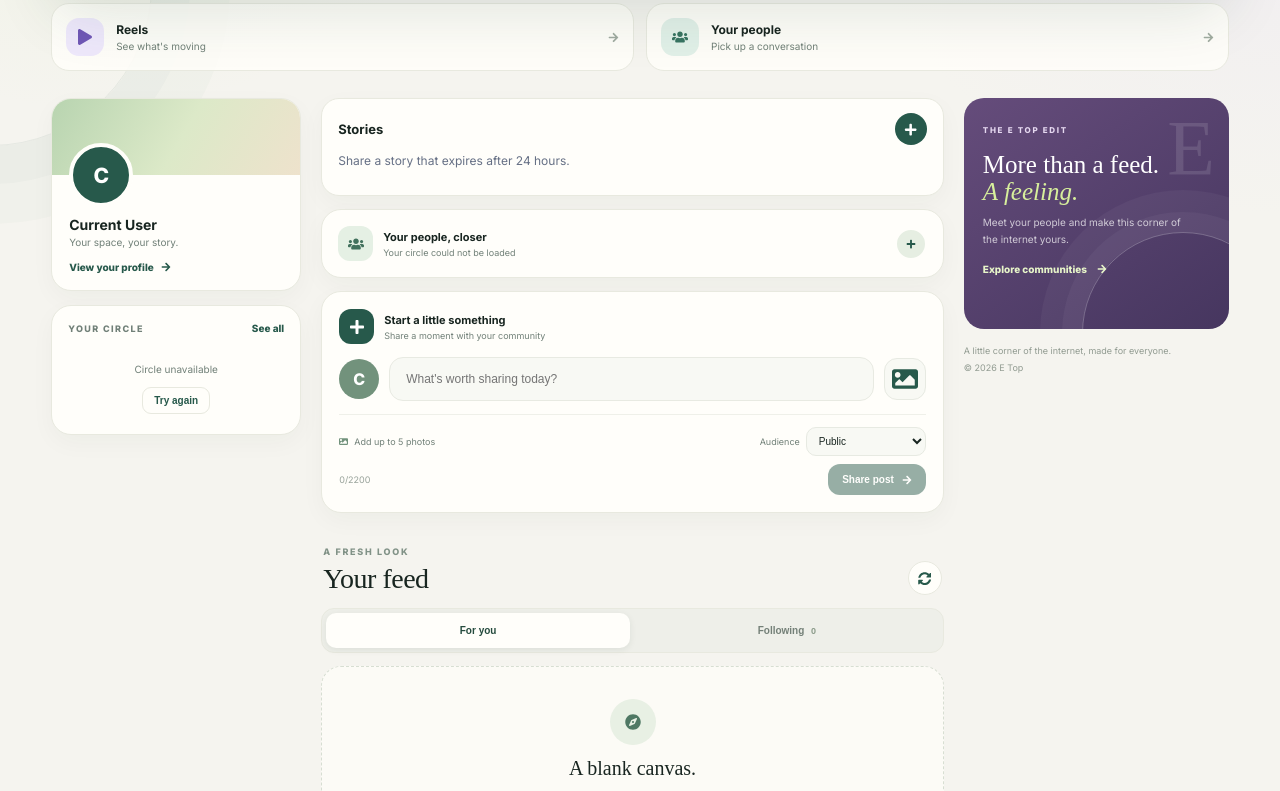
Scenario: shows a retry action when the following list cannot be loaded
The width and height of the screenshot is (1280, 791).
(page scrolled)
Expected: the message reads "Circle unavailable", [134,364,218,376]
Step 1. Click the button "Try again" → (176, 401), box [142,388,210,414]
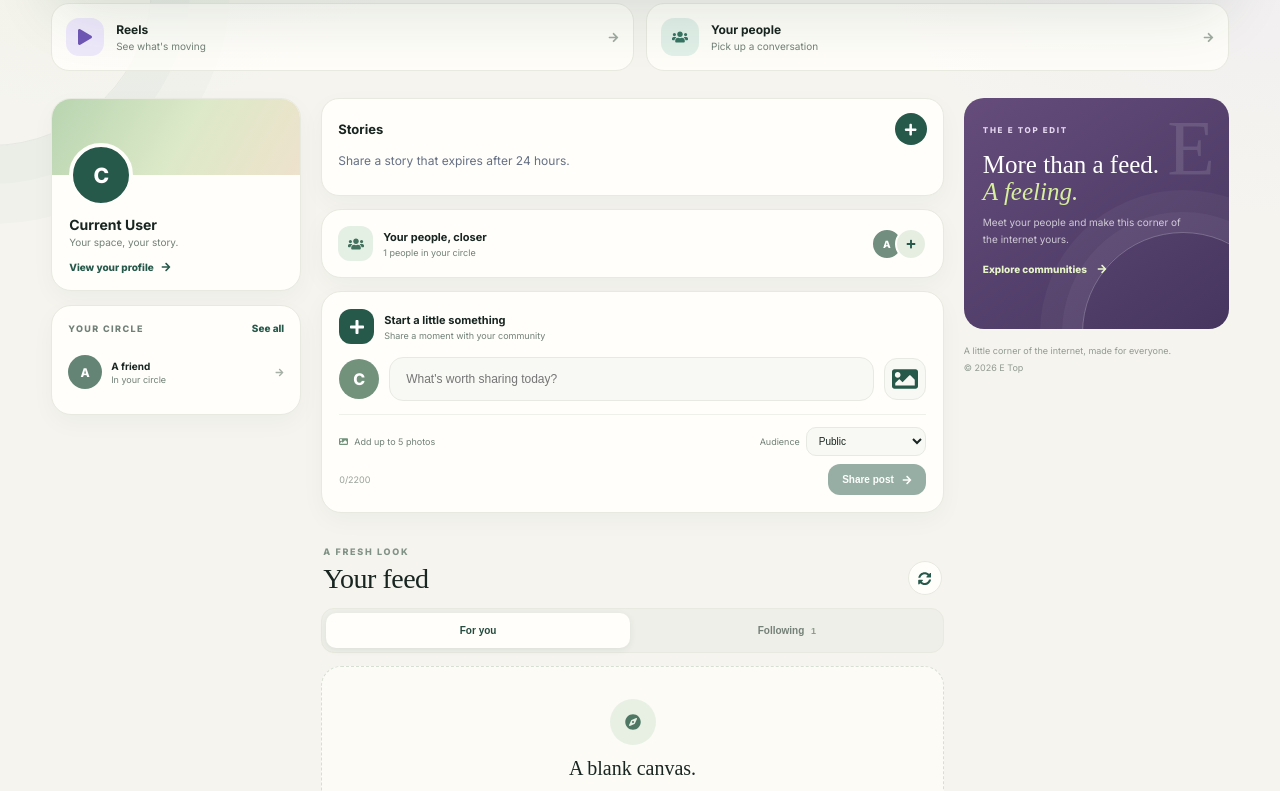
Now the link "A A friend In your circle" is shown, box [68,346,284,398]
